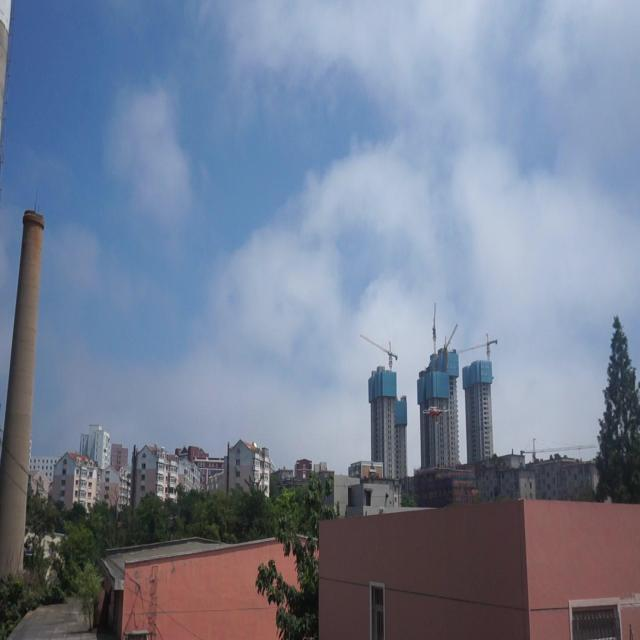drone: (420, 400, 450, 422)
